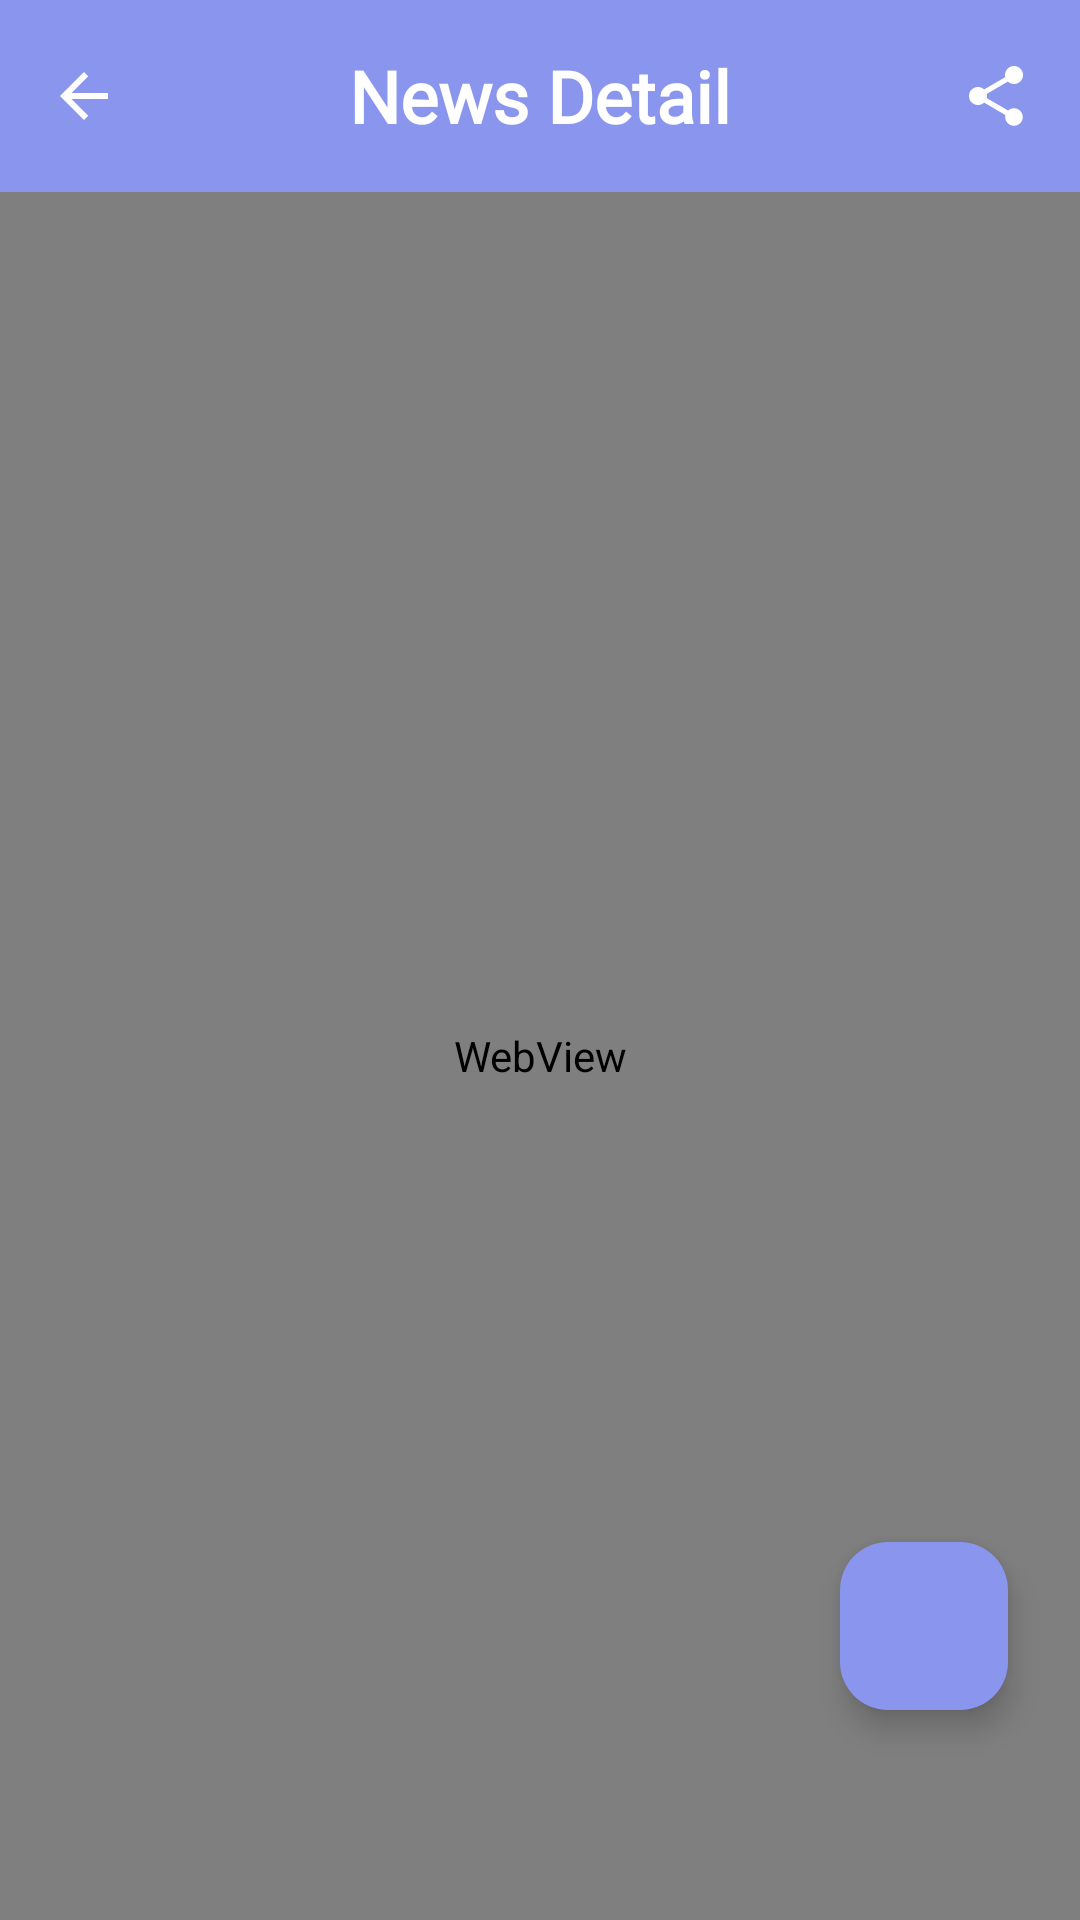

Icon bounding boxes for this 1080 x 1920 phone screenshot, format (x1, y1, x2, y2):
share: (969, 66, 1023, 126)
